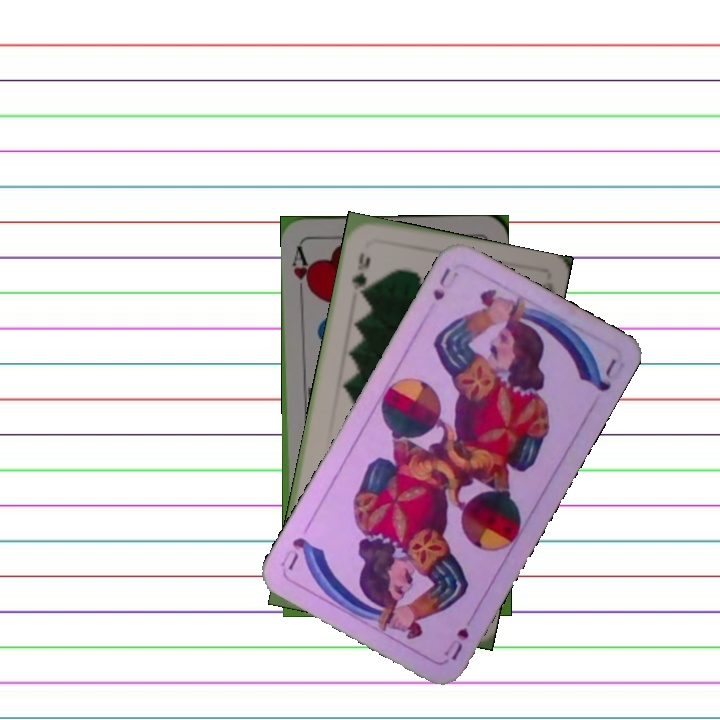G9: (348, 248, 373, 300)
HA: (288, 242, 315, 300)
SU: (439, 622, 472, 663), (428, 264, 461, 304)
